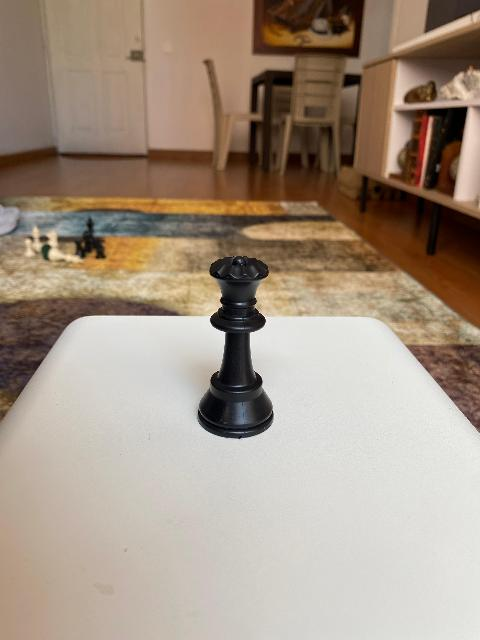black-queen: (196, 254, 274, 438)
